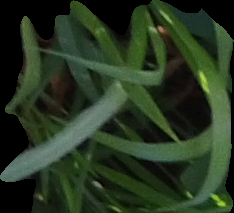grass: (1, 1, 233, 212)
